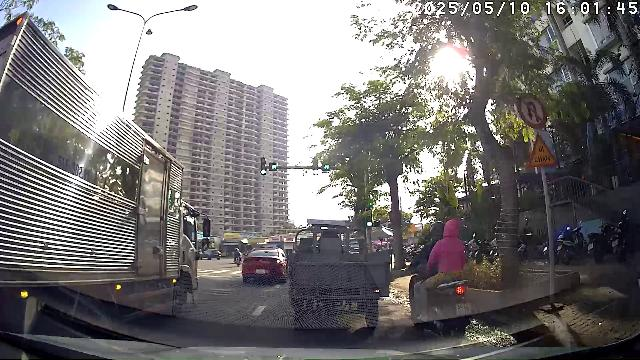124a-cam-quay-dau-xe: (517, 93, 548, 128)
